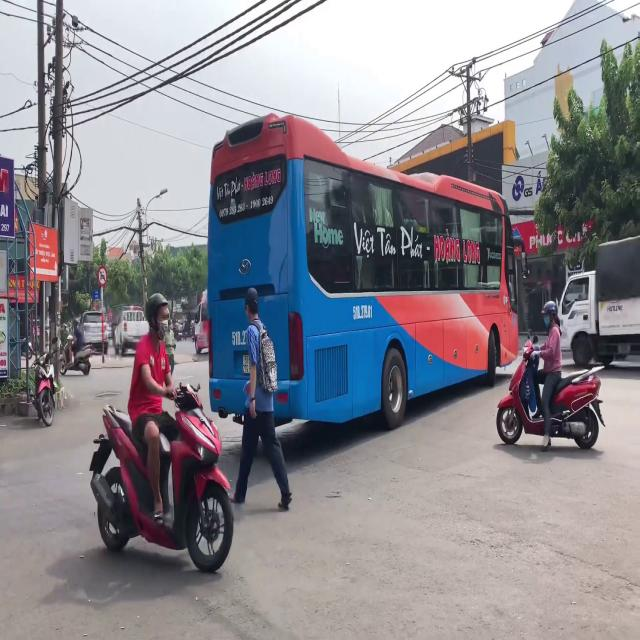bien_trang: (242, 352, 251, 376)
